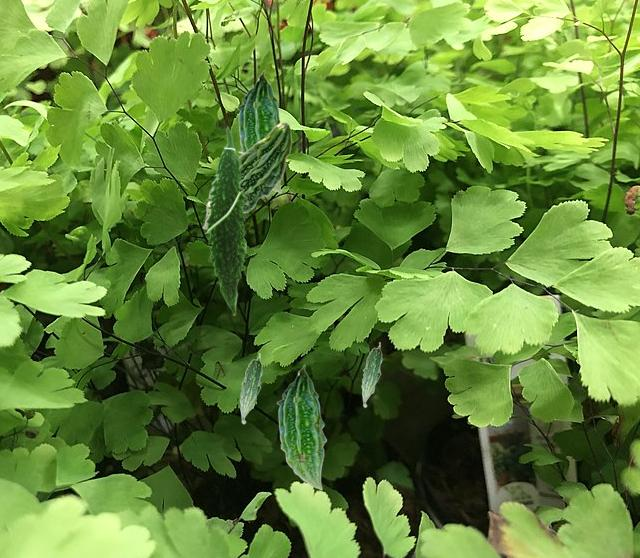ampalaya: (201, 121, 292, 230), (202, 125, 253, 316), (276, 364, 327, 491), (236, 70, 282, 194), (239, 352, 262, 424), (361, 341, 382, 408)
